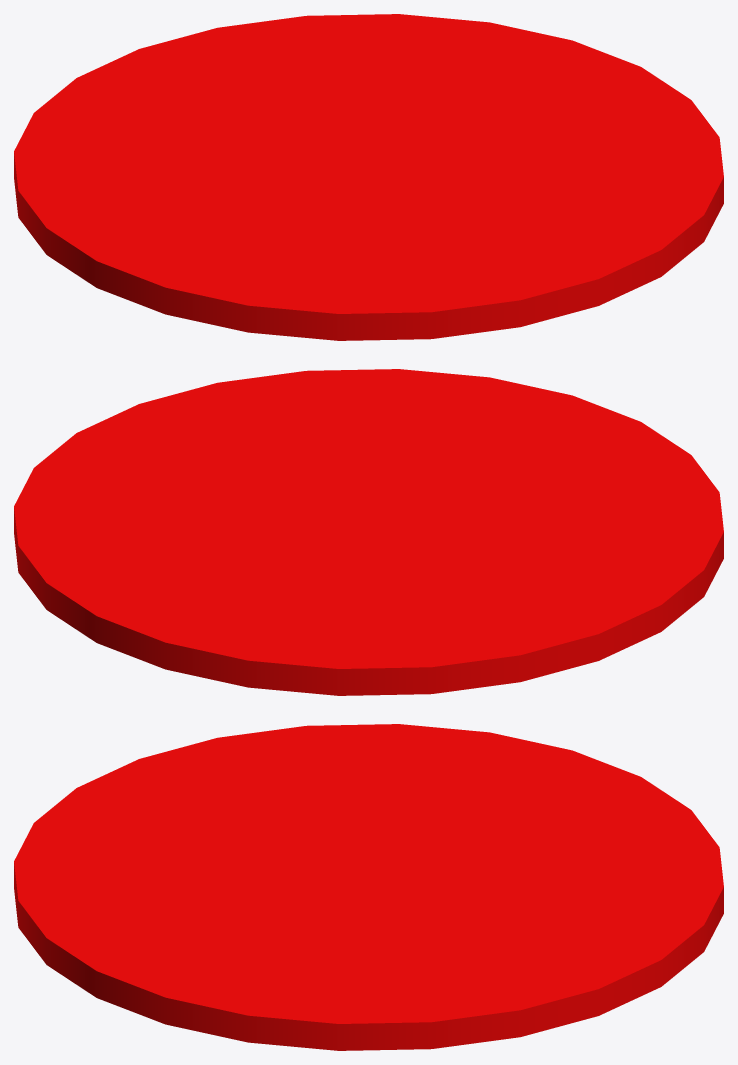
File: original-44.obj
The picture shows the model from 3 angles, top to bottom: view 1: azimuth 30°, elevation 25°; view 2: azimuth 150°, elevation 25°; view 3: azimuth 270°, elevation 25°; orthographic projection.
Parts seen in each view (by area): view 1: group_24/ID254#ID254; view 2: group_24/ID254#ID254; view 3: group_24/ID254#ID254.
Boxes of the visible parts, x1,y1,x2,y2 form: group_24/ID254#ID254: (14,14,723,340); group_24/ID254#ID254: (14,369,723,695); group_24/ID254#ID254: (14,724,723,1050).
Size of the model in its own units: 0.0839 by 0.00351 by 0.0839.
